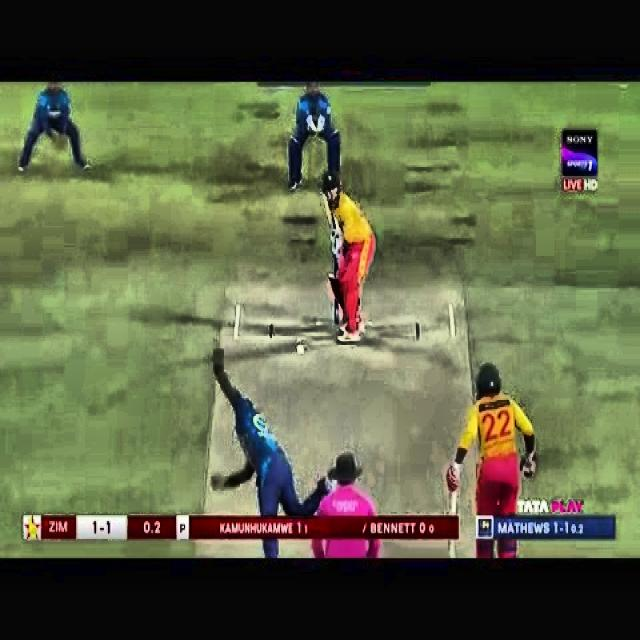Left-stump: (334, 299, 339, 324)
